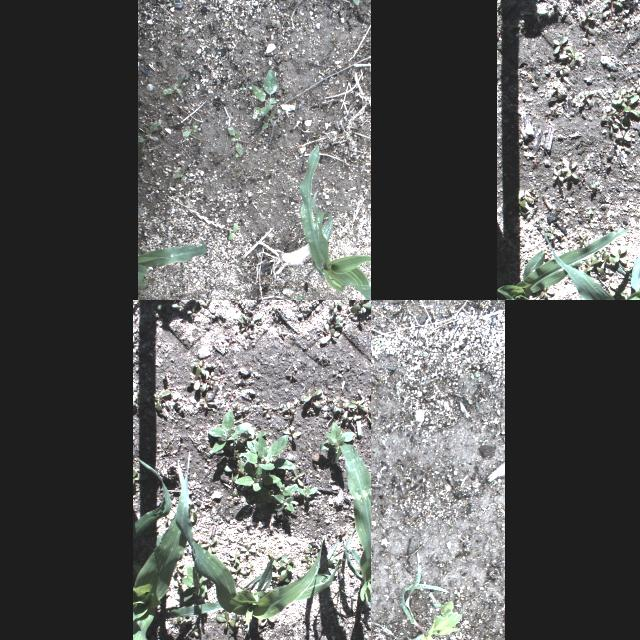crop: (169, 516, 341, 636), (531, 181, 640, 300), (300, 142, 371, 300), (496, 227, 639, 300), (134, 452, 188, 640), (330, 445, 371, 640), (393, 552, 462, 640), (133, 454, 171, 540), (138, 242, 206, 290)
weed: (236, 436, 294, 492), (208, 410, 252, 452), (607, 94, 640, 135), (322, 424, 354, 464), (252, 67, 276, 117), (182, 562, 206, 602), (507, 187, 538, 216), (272, 481, 298, 511), (237, 429, 265, 453), (251, 107, 275, 131), (162, 75, 184, 99), (518, 3, 548, 20), (278, 552, 294, 582), (497, 248, 515, 274), (301, 388, 323, 409), (138, 122, 160, 142), (498, 20, 520, 40), (581, 256, 603, 276), (228, 126, 242, 156), (319, 322, 339, 343), (599, 0, 622, 18), (560, 160, 580, 180), (152, 391, 172, 411), (550, 34, 568, 56), (580, 8, 594, 36), (546, 82, 566, 100), (610, 244, 628, 264), (215, 611, 235, 629), (568, 47, 582, 71), (233, 451, 244, 481), (332, 588, 352, 604), (591, 254, 605, 276), (238, 316, 252, 338), (614, 88, 632, 104), (600, 251, 616, 269), (538, 282, 554, 300), (577, 231, 591, 251), (158, 300, 178, 314), (334, 401, 356, 413), (351, 300, 371, 313), (578, 92, 594, 108), (172, 165, 186, 183), (614, 130, 632, 144), (543, 226, 561, 240), (290, 467, 304, 485), (202, 534, 216, 552), (298, 486, 316, 499), (551, 167, 565, 183), (284, 425, 300, 439), (231, 566, 247, 580), (202, 369, 212, 391), (198, 300, 213, 314), (351, 398, 365, 412), (554, 63, 570, 75), (199, 396, 215, 408), (240, 543, 256, 555), (362, 402, 371, 423), (228, 223, 238, 240), (614, 118, 628, 130), (614, 284, 626, 298), (243, 561, 255, 575), (600, 110, 616, 120), (328, 300, 341, 312), (182, 125, 196, 136), (625, 86, 637, 98), (132, 466, 140, 484), (258, 618, 276, 626), (228, 552, 240, 564), (279, 295, 307, 300), (549, 102, 559, 116), (186, 305, 196, 319), (193, 368, 200, 388), (333, 618, 343, 632), (193, 362, 204, 374), (133, 390, 141, 406), (284, 402, 294, 414), (188, 626, 200, 636), (189, 504, 195, 522), (610, 15, 620, 25), (614, 24, 624, 34), (306, 546, 316, 556), (471, 370, 481, 380), (378, 337, 388, 347), (559, 54, 575, 60), (284, 374, 296, 382), (634, 78, 640, 93), (333, 318, 342, 328), (347, 416, 361, 422), (340, 410, 348, 420), (172, 617, 182, 625), (532, 159, 540, 167), (142, 388, 150, 396), (497, 0, 507, 6), (590, 184, 596, 194), (302, 558, 312, 564), (308, 409, 316, 415), (232, 488, 236, 496), (638, 91, 640, 103), (370, 392, 371, 396)
